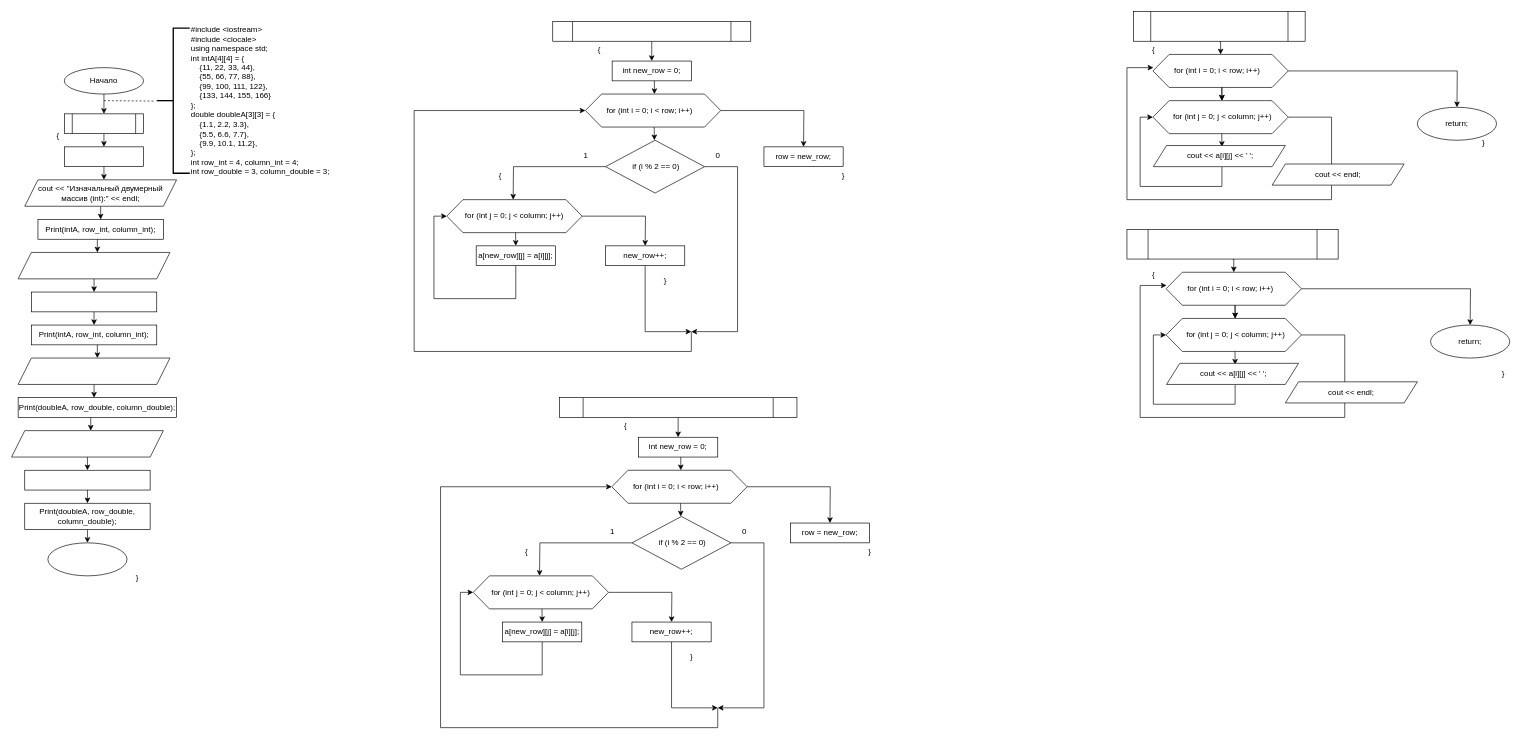
The diagram is 1525 pixels wide and 744 high, and some of its shapes have lost their labels. The box of each missing label's shape, as (x1, y1, x2, y2) in pixels:
cout << "Измененный двумерный массив (double):" << endl;: (11, 430, 163, 457)
cout << "Измененный двумерный массив (int):" << endl;: (17, 252, 170, 279)
cout << "Изначальный двумерный массив (double):" << endl;: (17, 357, 170, 384)
int main(): (64, 113, 144, 134)
Remove(doubleA, row_double, column_double);: (24, 470, 150, 490)
Remove(intA, row_int, column_int);: (31, 291, 157, 312)
return 0;: (47, 542, 127, 576)
setlocale(LC_ALL, "Russian");: (64, 146, 144, 167)
void Print(double a[][3], int row, int column): (1126, 229, 1338, 259)
void Print(int a[][4], int row, int column): (1133, 11, 1305, 41)
void Remove(double a[][3], int& row, int column): (559, 397, 797, 417)
void Remove(int a[][4], int& row, int column): (552, 21, 751, 41)
